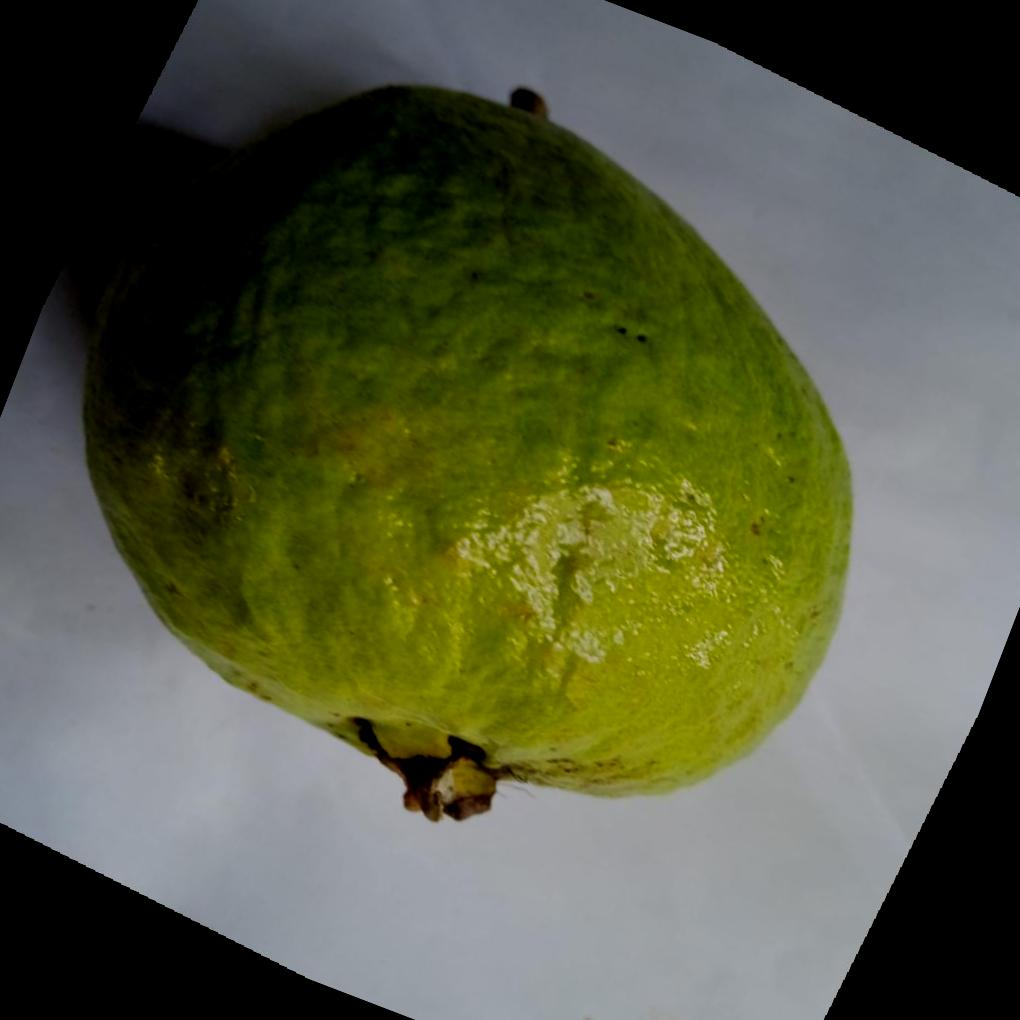FreshGuava: (81, 83, 854, 824)
